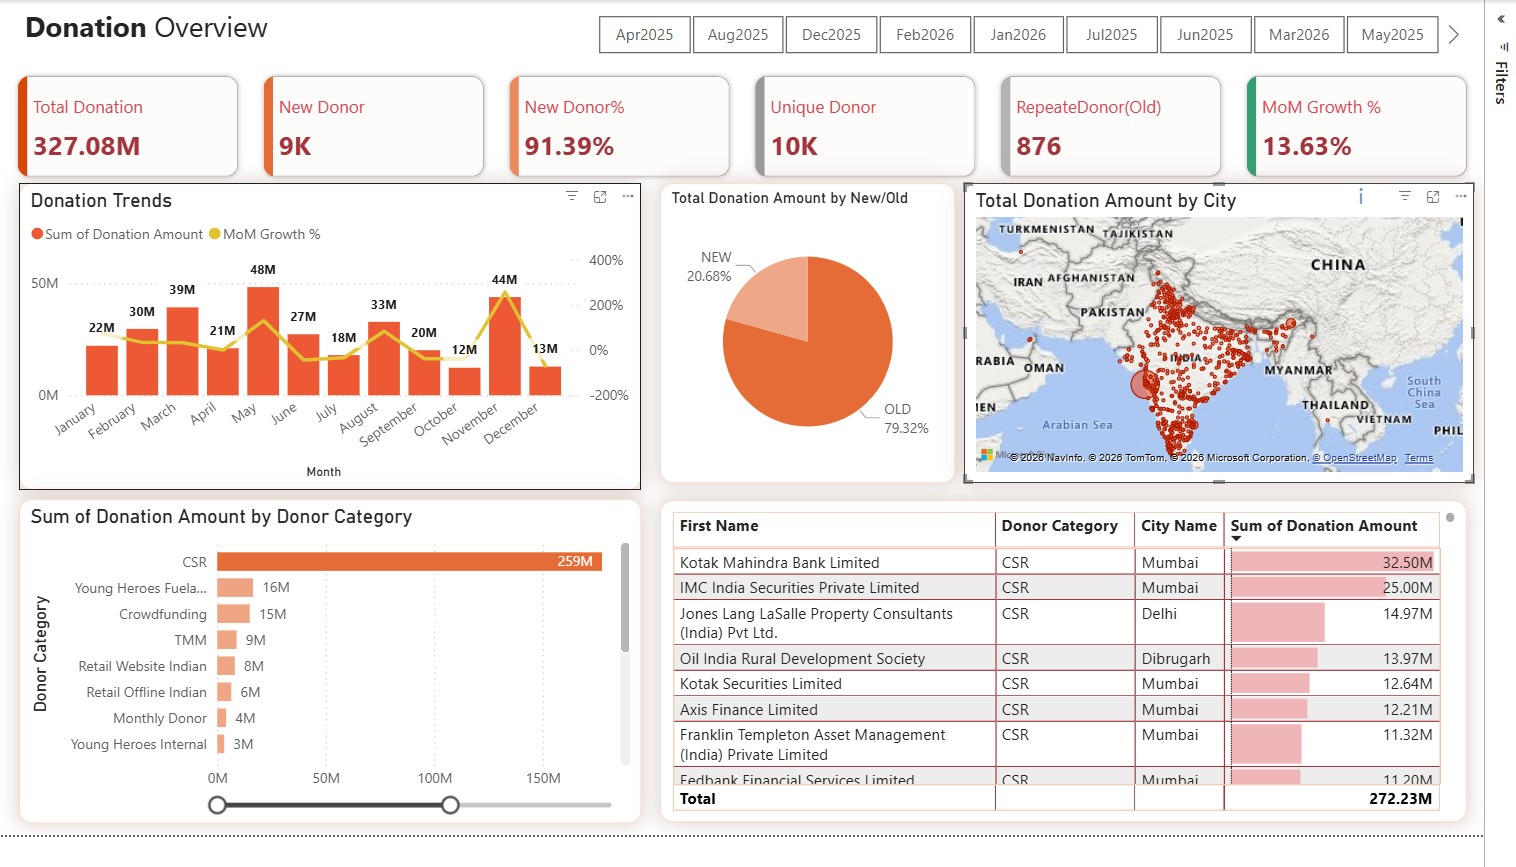

What the dashboard file says about the page in this screenshot:
{"tool":"powerbi","page":{"name":"Donation","canvas":[1280,720],"ordinal":0},"visuals":[{"type":"image","box":[11.4,1,169.1,52.3],"z":0},{"type":"textbox","box":[11.7,0.9,479.4,52.1],"z":1000},{"type":"lineClusteredColumnComboChart","title":"Donation Trends","fields":{"Category":["DateTable.Date.Variation.Date Hierarchy.Month"],"Y":["Sum(donation.Donation Amount)"],"Y2":["Mesure.MoM Growth %"]},"box":[16.2,157.7,536.9,265.1],"z":2000},{"type":"clusteredBarChart","fields":{"Y":["Sum(donation.Donation Amount)"],"Category":["donation.Donor Category"]},"box":[16.2,430,536.9,280.1],"z":3000},{"type":"tableEx","fields":{"Values":["donation.First Name","donation.Donor Category","Sum(donation.Donation Amount)","donation.City Name"]},"box":[569.2,430.9,695.8,278.3],"z":4000},{"type":"cardVisual","fields":{"Data":["Sum(donation.Donation Amount)","Mesure.New Donor","Mesure.New Donor%","Mesure.Unique Donor","Mesure.RepeateDonor(Old)","Mesure.MoM Growth %"]},"box":[3.8,53.2,1276.2,111.2],"z":5000},{"type":"slicer","fields":{"Values":["DateTable.Month1"]},"box":[491.1,7.2,773.9,45.8],"z":6000},{"type":"map","title":"Total Donation Amount by City","fields":{"Category":["donation.City Name"],"Size":["Mesure.Total Donation Amount"]},"box":[831.3,158,439.9,258.6],"z":7000},{"type":"pieChart","fields":{"Y":["Mesure.Total Donation Amount"],"Category":["donation.New/Old"]},"box":[569.2,158,255,258.6],"z":8000}]}

Visuals, with their boxes in screenshot pixels (x1, y1, x2, y2), scaled from the page's 1280x720 canvas onto the 1516x867 screenshot:
image: <region>14, 1, 214, 64</region>
textbox: <region>14, 1, 582, 64</region>
"Donation Trends" lineClusteredColumnComboChart: <region>19, 190, 655, 509</region>
clusteredBarChart - Sum(donation.Donation Amount) x donation.Donor Category: <region>19, 518, 655, 855</region>
tableEx - donation.First Name x donation.Donor Category: <region>674, 519, 1498, 854</region>
cardVisual - Sum(donation.Donation Amount) x Mesure.New Donor: <region>5, 64, 1515, 198</region>
slicer - DateTable.Month1: <region>582, 9, 1498, 64</region>
"Total Donation Amount by City" map: <region>985, 190, 1506, 502</region>
pieChart - Mesure.Total Donation Amount x donation.New/Old: <region>674, 190, 976, 502</region>
